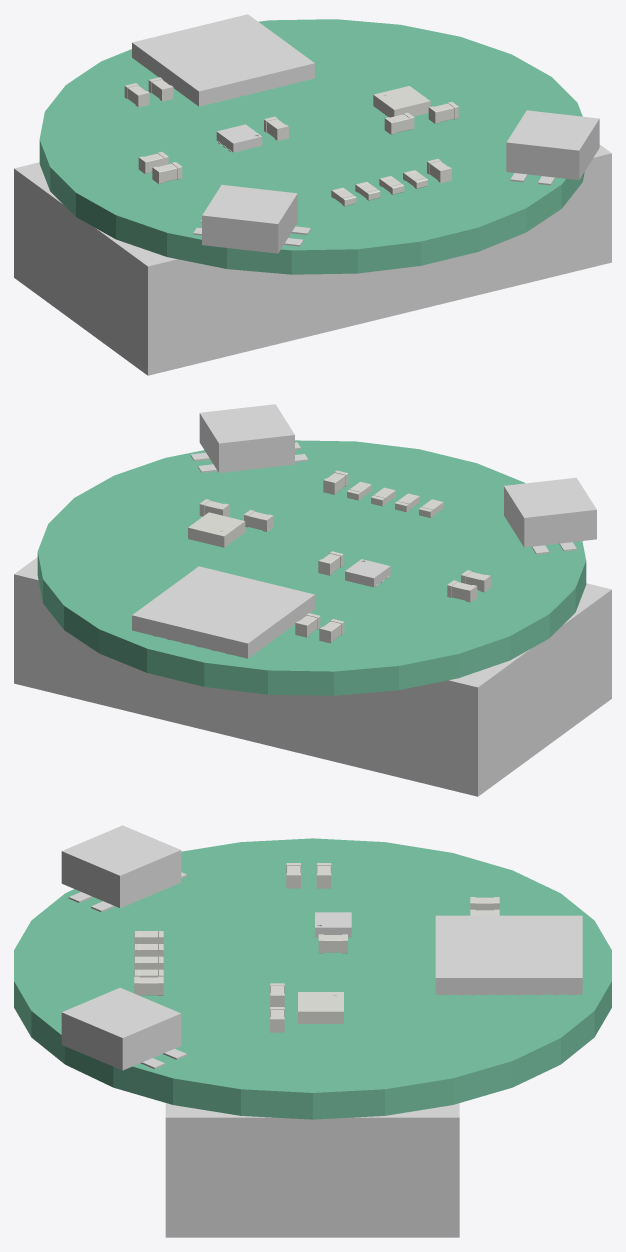
File: sensortag_0.glb
3 views of the same model, one above another, from view 1: azimuth 30°, elevation 25°; view 2: azimuth 150°, elevation 25°; view 3: azimuth 270°, elevation 25° (orthographic). The views are drawn at different scales.
Parts seen in each view (by area): view 1: node1, node20, node19, node7, node8, node17, node18, node13, node11, node12; view 2: node1, node20, node19, node8, node7, node17, node18; view 3: node1, node20, node19, node7, node8, node17, node18, node10, node9.
Part boxes in pixels (x1,y1,x2,y2): node1: (39,19,584,274); node20: (14,144,611,375); node19: (132,14,314,106); node7: (193,185,310,253); node8: (506,110,599,185); node17: (373,86,430,117); node18: (216,124,262,152); node13: (152,162,182,183); node11: (428,102,458,123); node12: (384,112,414,134); node1: (37,440,586,695); node20: (14,557,611,796); node19: (132,566,314,658); node8: (190,404,308,472); node7: (504,477,596,554); node17: (188,512,245,547); node18: (345,559,390,587); node1: (14,838,611,1119); node20: (165,1103,459,1237); node19: (435,915,582,995); node7: (61,825,186,912); node8: (61,987,186,1070); node17: (298,992,343,1023); node18: (315,912,351,937); node10: (134,976,163,995); node9: (318,934,347,953).
Size of the model in its own units: 0.0328 by 0.0109 by 0.0325.
